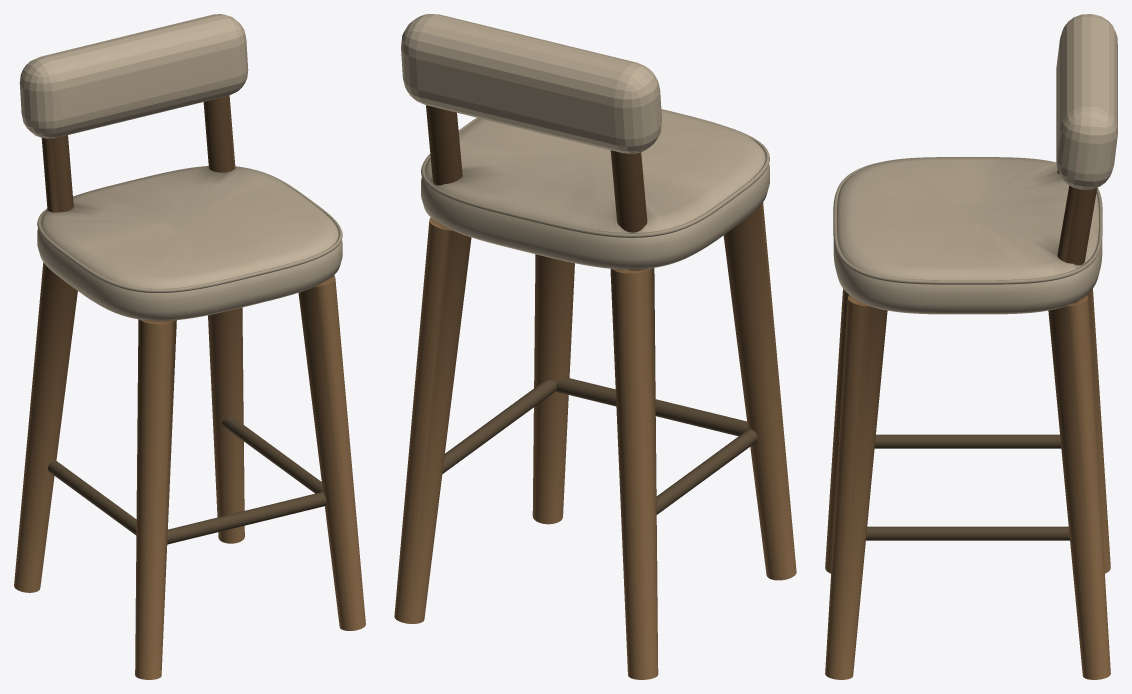
File: timber-stool.glb
The picture shows the model from 3 angles, left to right: view 1: azimuth 30°, elevation 25°; view 2: azimuth 150°, elevation 25°; view 3: azimuth 270°, elevation 25°; orthographic projection. The views are drawn at different scales.
Visible parts, largest first — view 1: timber-stool; view 2: timber-stool; view 3: timber-stool.
Boxes of the visible parts, x1=… form: timber-stool: x1=14, y1=14, x2=365, y2=679; timber-stool: x1=394, y1=14, x2=796, y2=679; timber-stool: x1=825, y1=14, x2=1117, y2=679.
Bounding box in the file's own units: 0.4606 × 0.968 × 0.4573.
